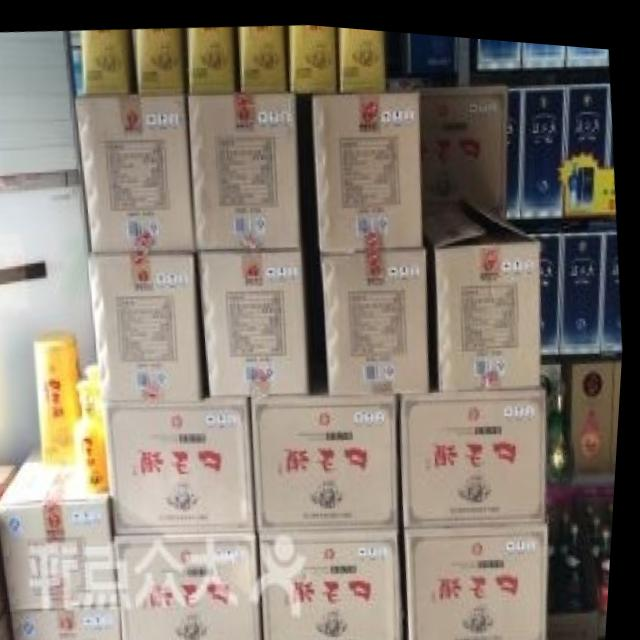box: (424, 187, 545, 382), (255, 383, 406, 530), (402, 377, 551, 521), (107, 394, 261, 531), (406, 510, 554, 640), (76, 90, 196, 250), (187, 85, 301, 245), (313, 85, 426, 243), (196, 241, 313, 393), (93, 243, 210, 395), (261, 522, 411, 640), (120, 530, 269, 640), (324, 241, 434, 389), (0, 438, 117, 545), (416, 79, 507, 208), (8, 538, 124, 608), (522, 74, 565, 207), (563, 224, 608, 341), (576, 349, 617, 460), (527, 223, 564, 344), (17, 601, 129, 640), (565, 74, 608, 159), (406, 26, 461, 78), (605, 223, 626, 340), (468, 30, 523, 68), (0, 508, 17, 629), (507, 81, 522, 210), (616, 349, 626, 463), (0, 464, 24, 508), (521, 33, 564, 57), (565, 36, 607, 57), (3, 608, 21, 640)
